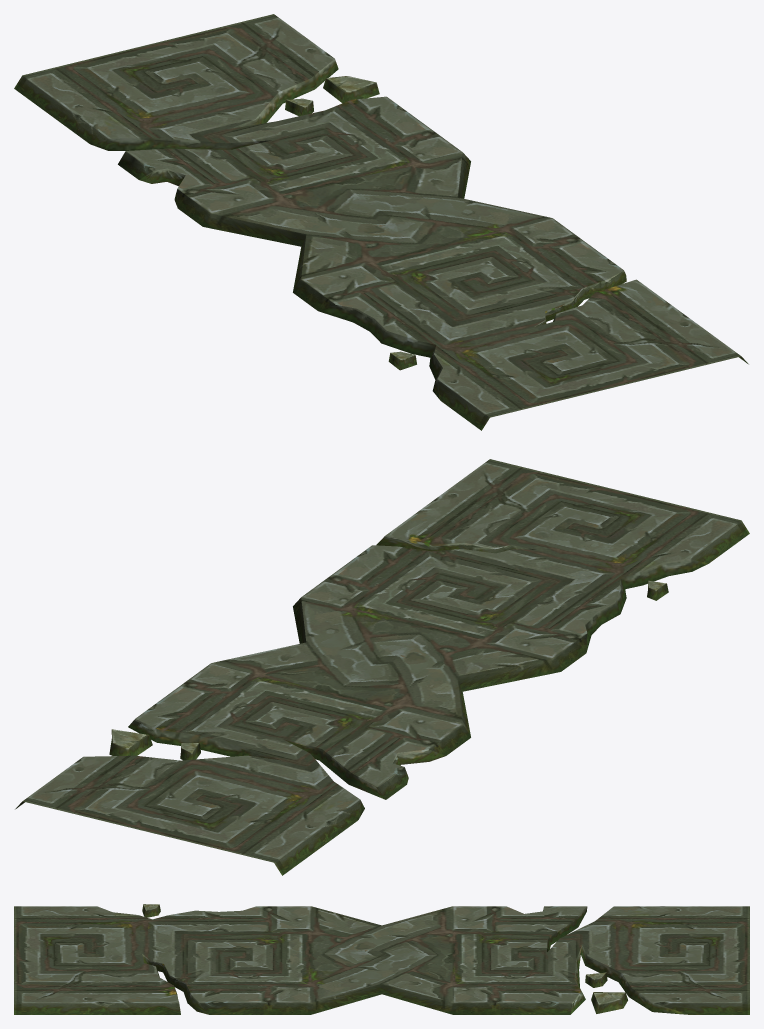
Rendered from fb_xsc_zj_04_b.FBX.
The picture shows the model from 3 angles, top to bottom: view 1: azimuth 30°, elevation 25°; view 2: azimuth 150°, elevation 25°; view 3: azimuth 270°, elevation 25°; orthographic projection. The views are drawn at different scales.
Parts seen in each view (by area): view 1: fb_xsc_zj_04_b; view 2: fb_xsc_zj_04_b; view 3: fb_xsc_zj_04_b.
Boxes of the visible parts, <box> form: fb_xsc_zj_04_b: <box>14,14,748,430</box>; fb_xsc_zj_04_b: <box>15,459,749,875</box>; fb_xsc_zj_04_b: <box>14,904,749,1014</box>.
Size of the model in its own units: 420 by 17.31 by 1268.
